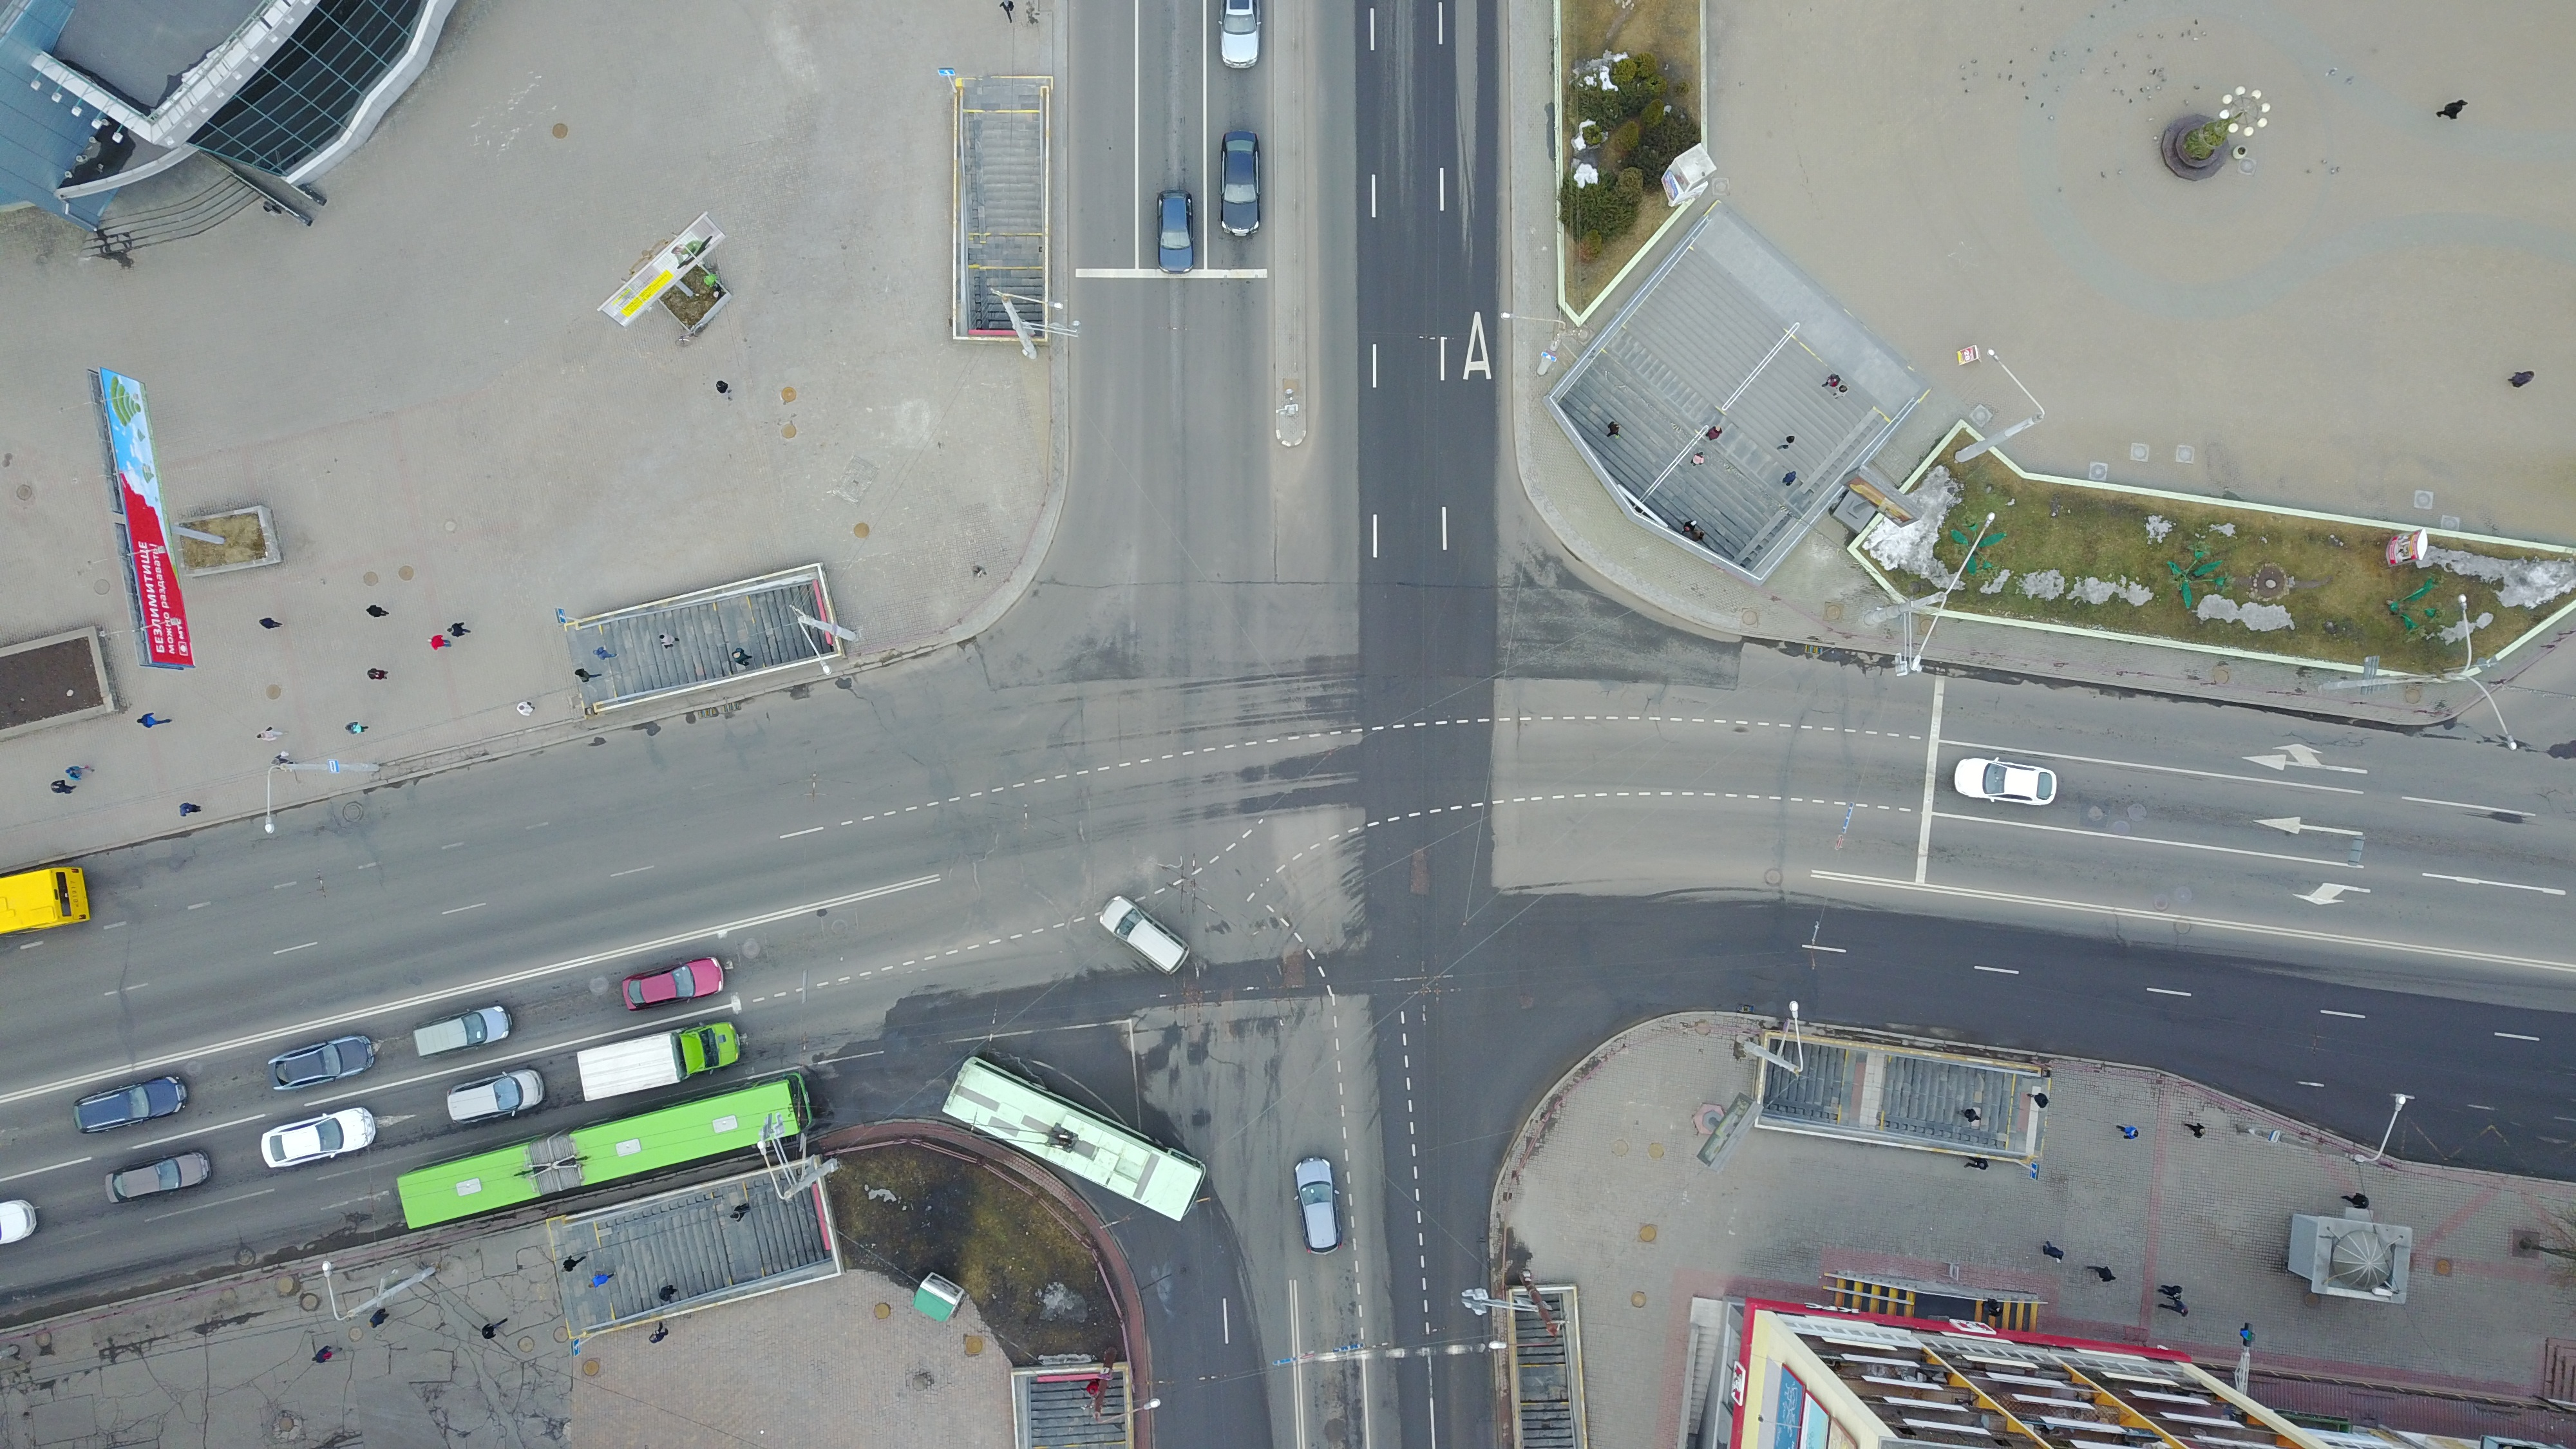car: (258, 1104, 380, 1177), (1093, 893, 1191, 975), (67, 1070, 191, 1134), (430, 1062, 554, 1123), (265, 1030, 379, 1097), (1951, 750, 2066, 814), (103, 1145, 216, 1208), (619, 952, 729, 1016), (407, 996, 513, 1058), (1288, 1150, 1346, 1260), (1212, 126, 1265, 241), (1150, 184, 1200, 281), (1210, 0, 1267, 65)
